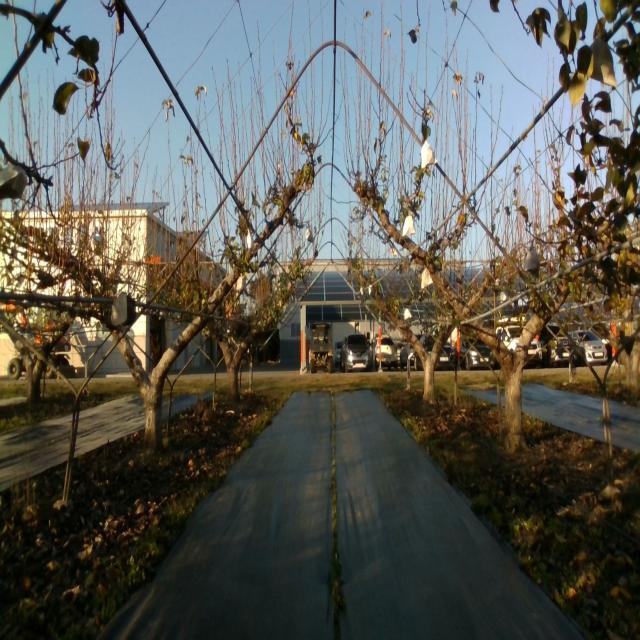pearbags: (586, 38, 617, 89), (0, 164, 26, 199), (523, 247, 539, 279), (421, 138, 437, 169), (402, 212, 416, 236), (420, 264, 432, 290)
